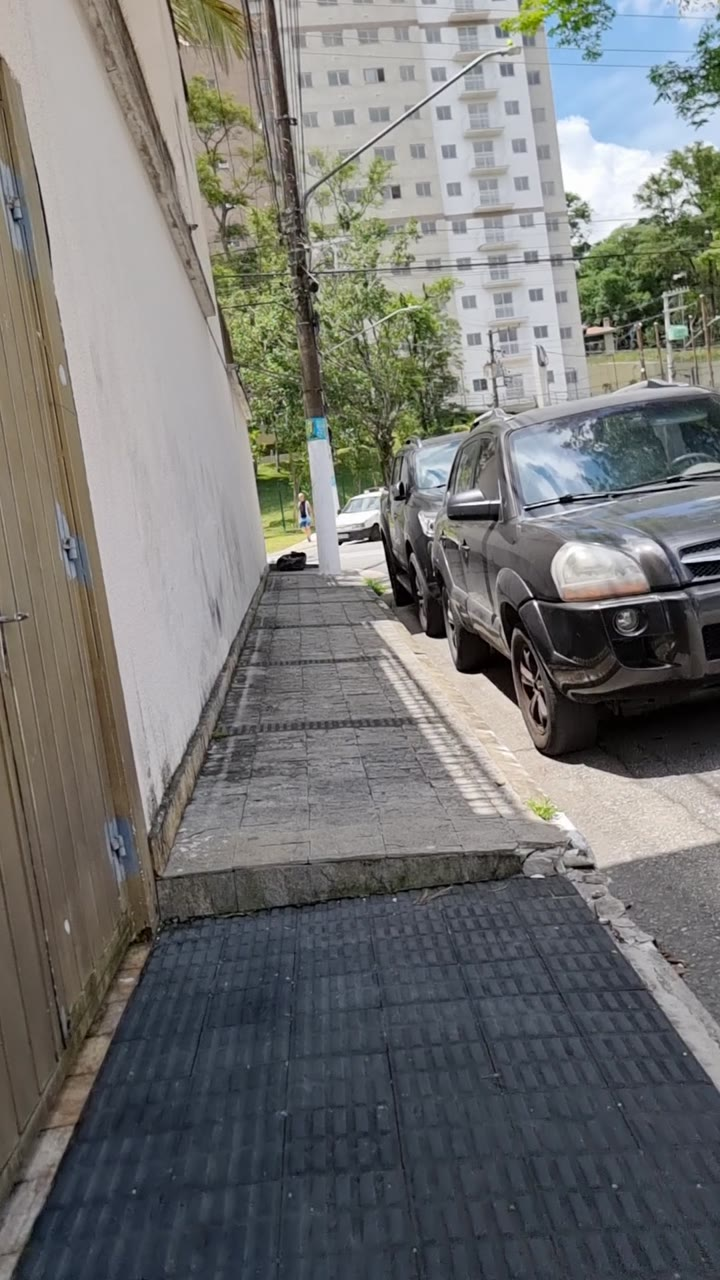desnivel: (0, 819, 720, 934)
obstaculo: (288, 0, 331, 550)
